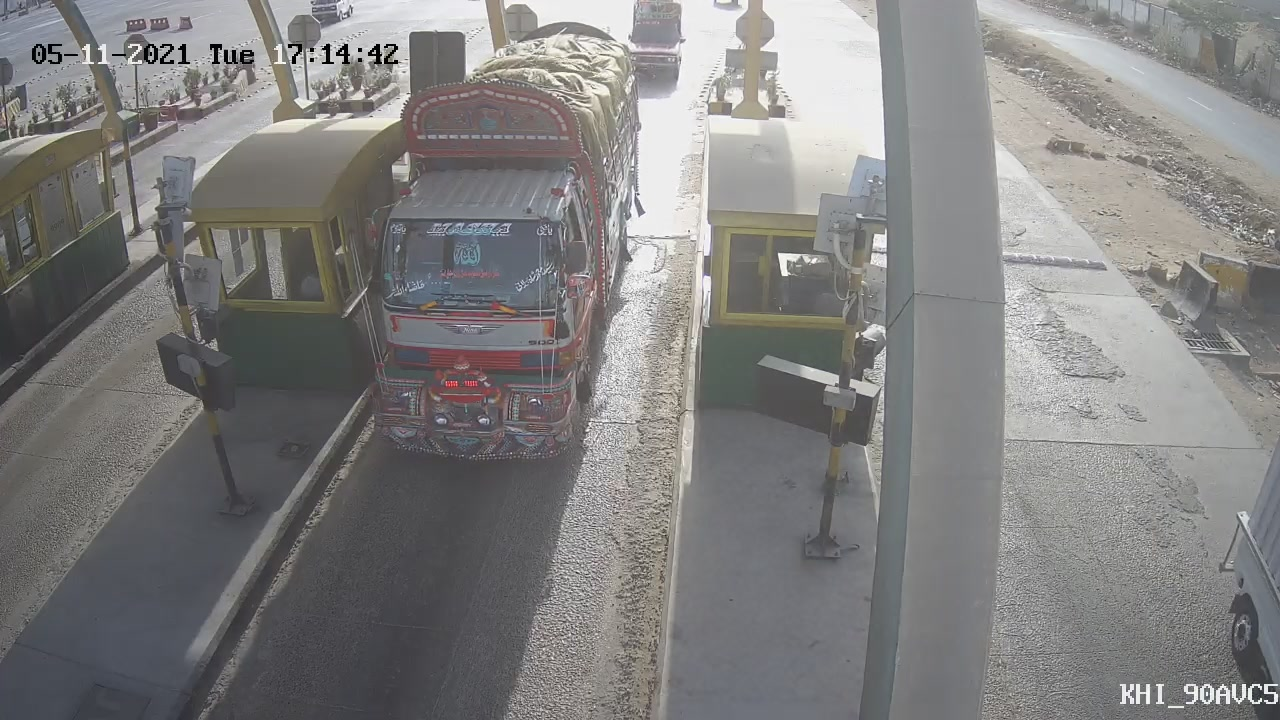F5: (311, 3, 674, 496)
